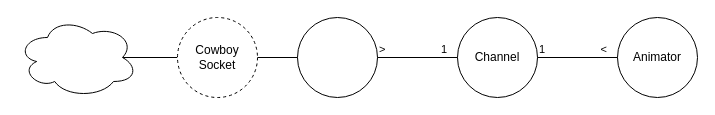
Some shapes in this 715 by 115 pixel diagram are drawn without their labels. Here are the shapes that lost their labels. From the top down, the box of each, then its label:
(16, 16, 138, 98): Web Socket
(296, 16, 378, 98): Anim Socket
